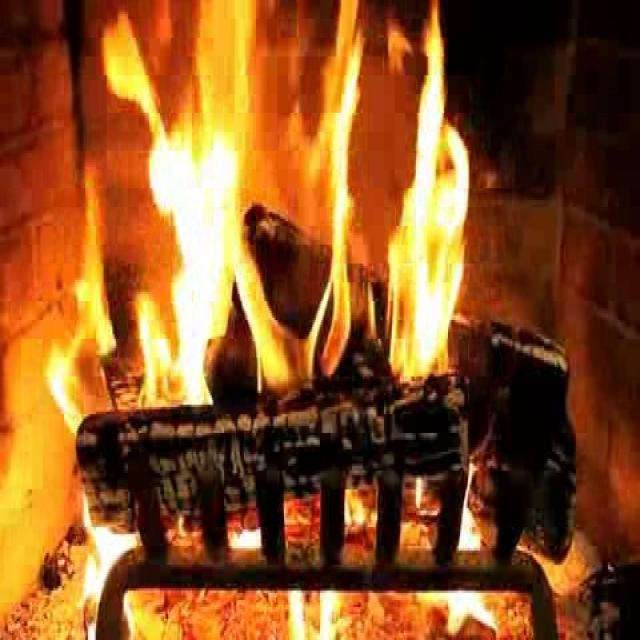fire: (113, 5, 465, 412)
